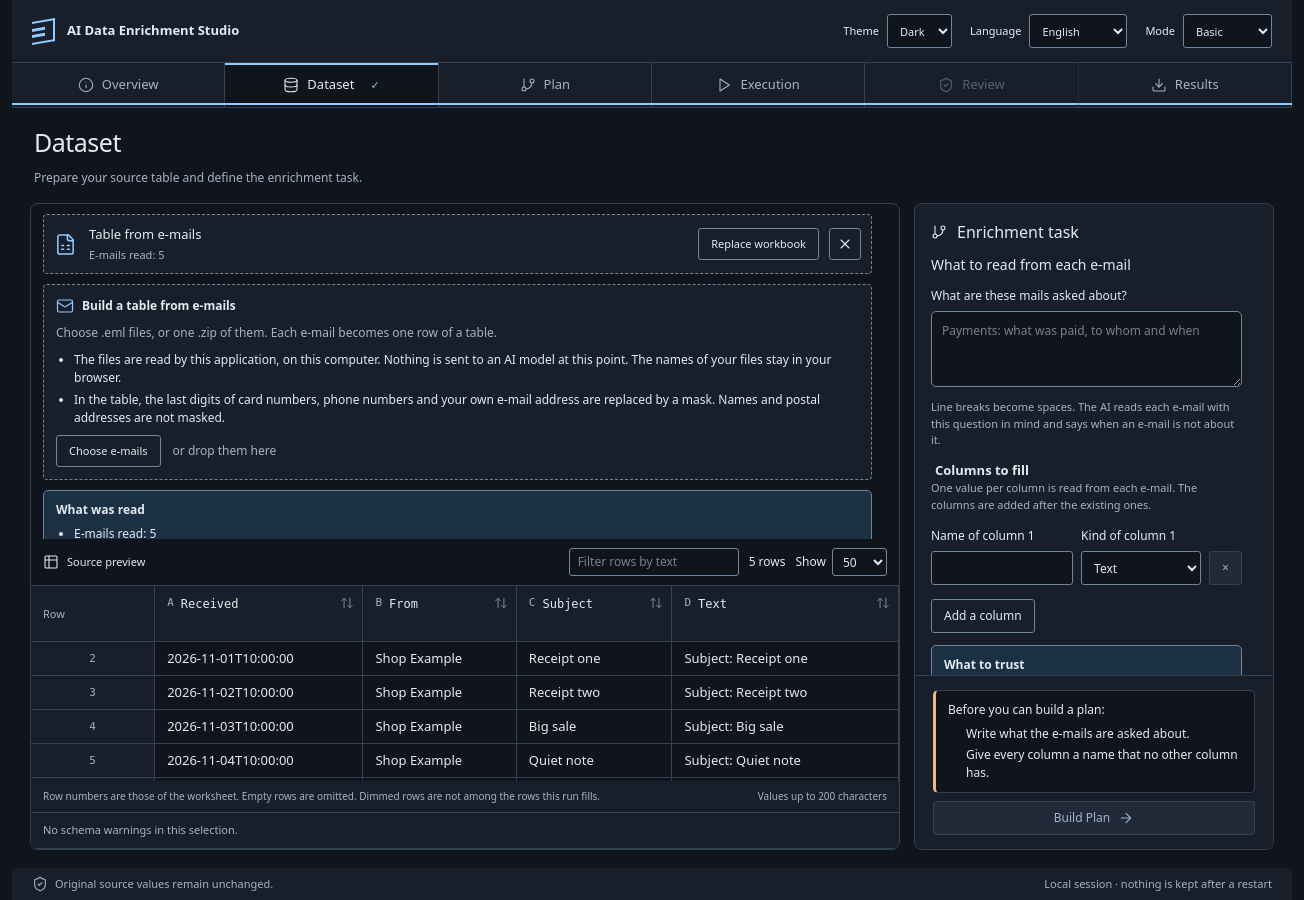
Test: builds the plan with the request body and shows it in plain words
The width and height of the screenshot is (1304, 900).
Earlier steps of the test are not shown.
In the text box labelled "What are these mails asked about?": [1086, 349] box [931,311,1242,387], type "Payments: what was paid?"
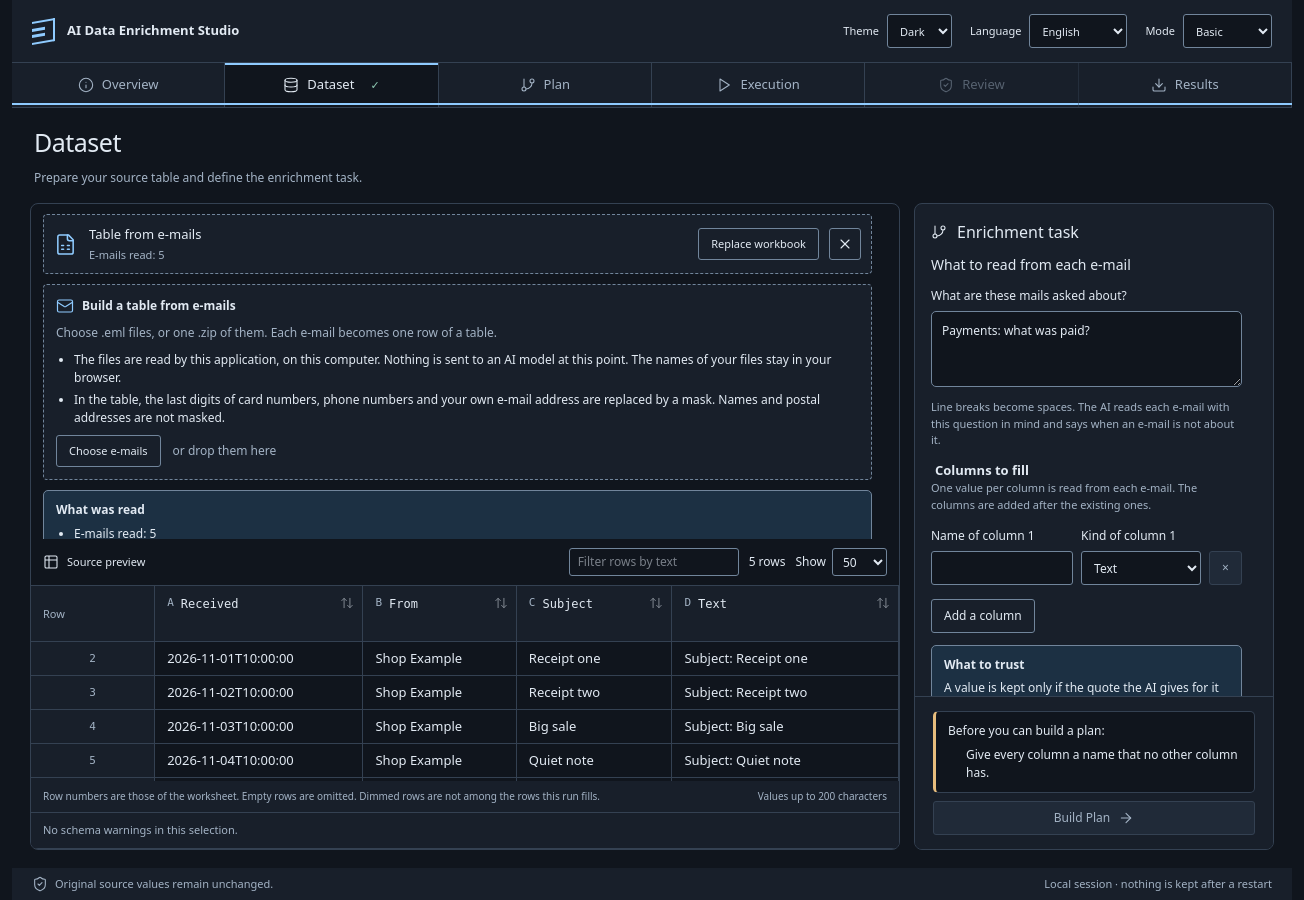
In the field labelled "Name of column 1": [1002, 568] box [931,551,1073,585], type "Amount"
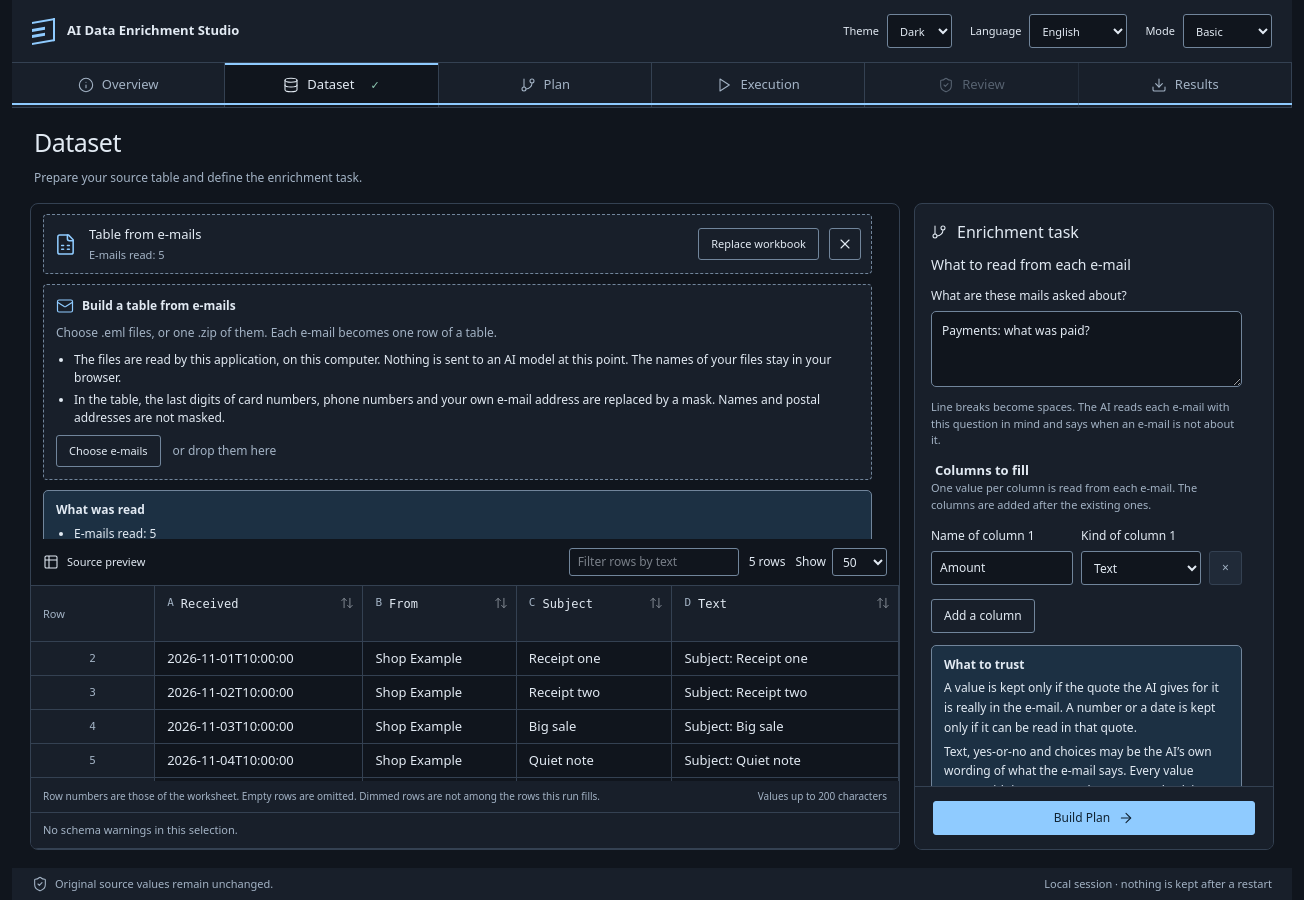
Select "Number" in the dropdown labelled "Kind of column 1": [1141, 568] box [1081,551,1201,585]
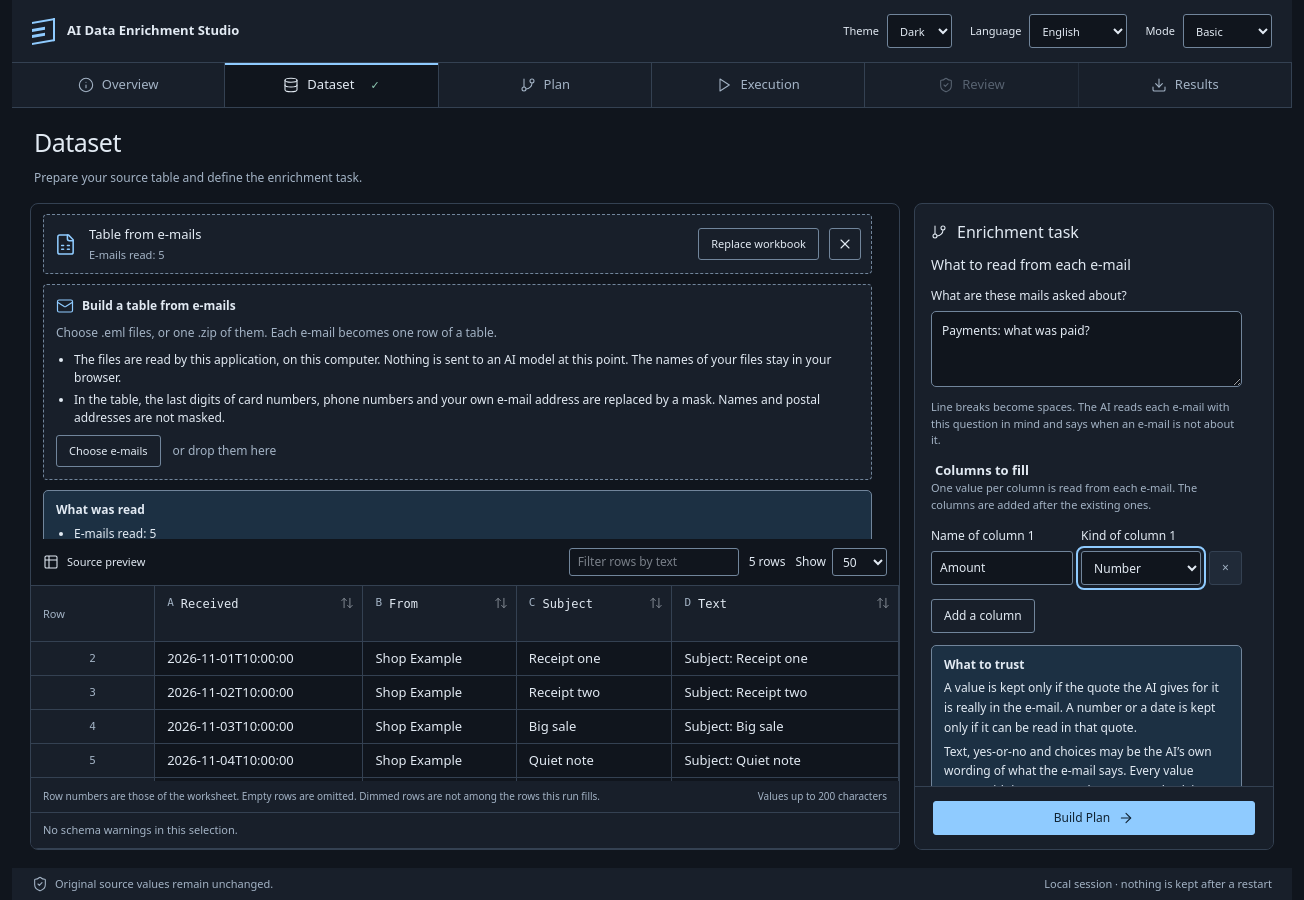
Click the button "Build Plan": [1094, 818] box [933,800,1255,834]
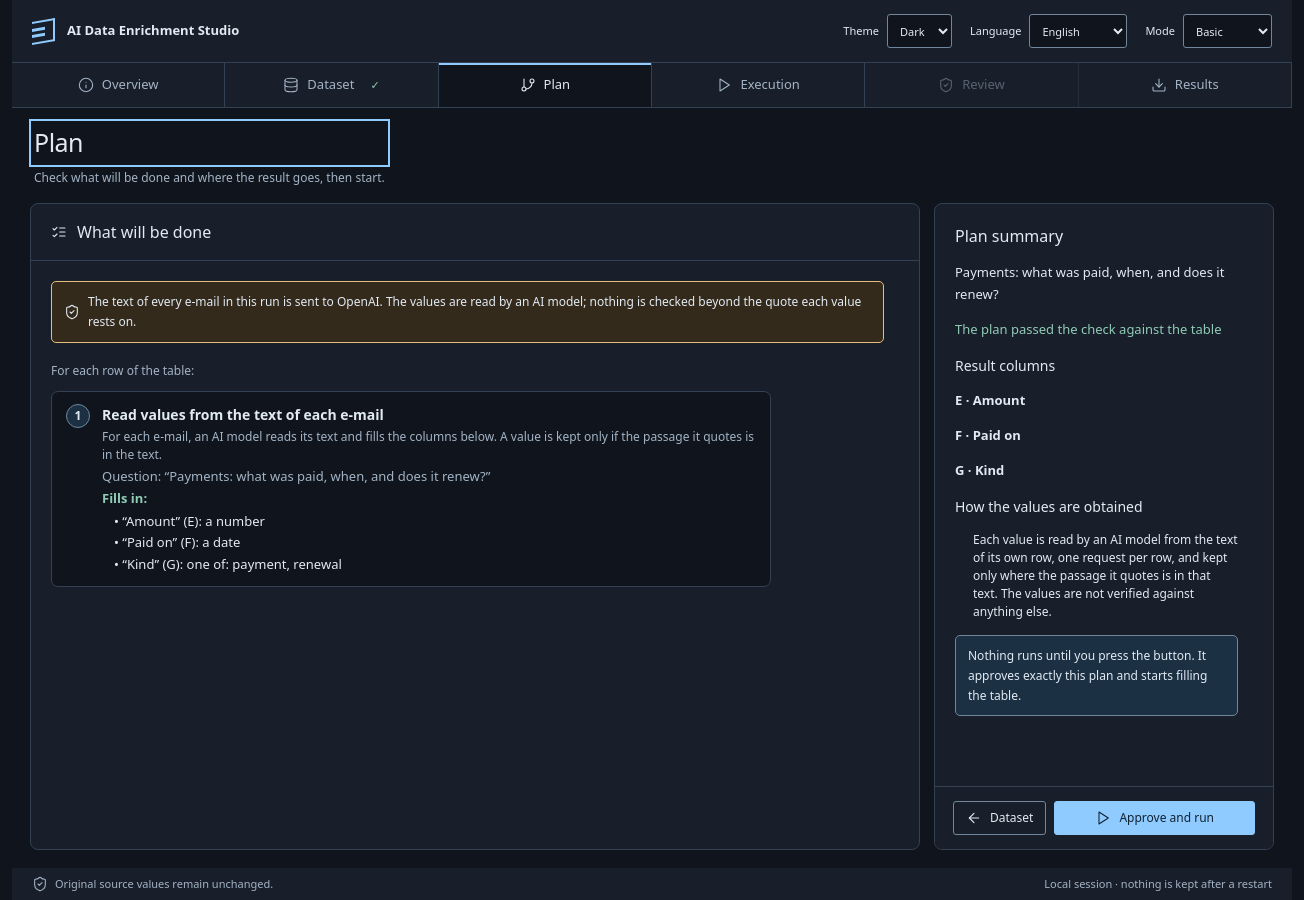
expect the element with test id "extraction-plan" is shown: met, box [51,361,884,587]
expect the element with test id "extraction-plan" shows "Read values from the text of each e-mail": met, box [102,405,384,424]
expect the element with test id "extraction-banner" shows "The text of every e-mail in this run is sent to OpenAI. The values are read by an AI model; nothing is checked beyond the quote each value rests on.": met, box [88,293,861,330]
